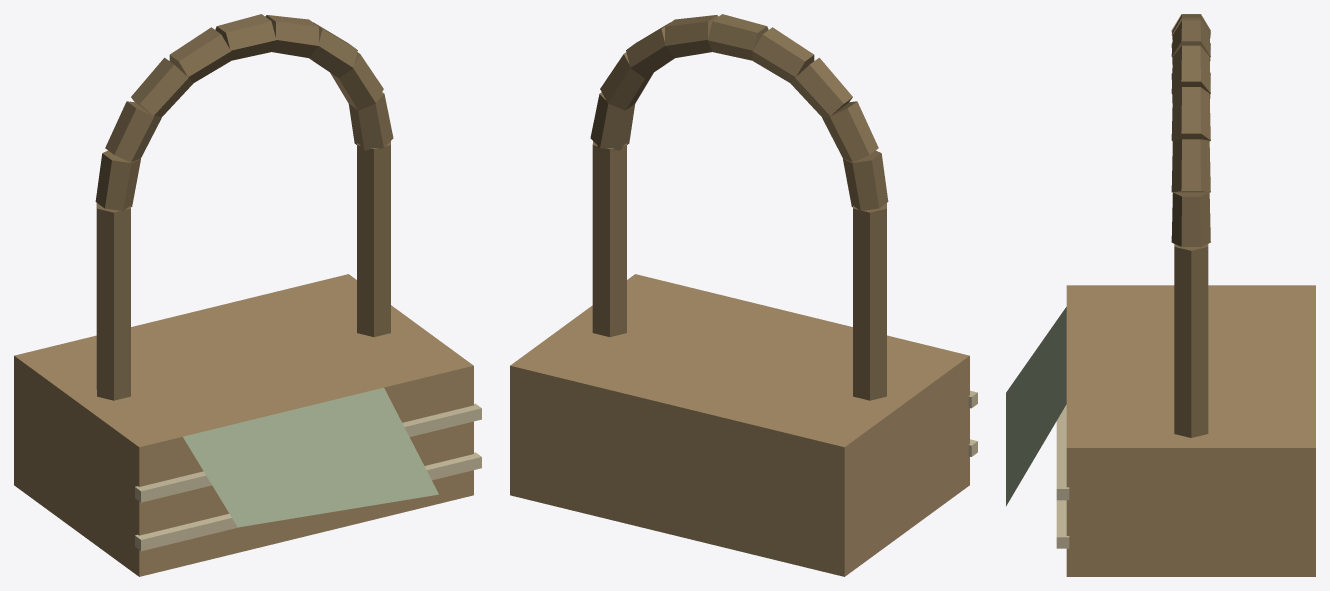
File: map-exclusive-v3__meadow_10.glb
The picture shows the model from 3 angles, left to right: view 1: azimuth 30°, elevation 25°; view 2: azimuth 150°, elevation 25°; view 3: azimuth 270°, elevation 25°; orthographic projection.
Parts seen in each view (by area): view 1: meadow_10; view 2: meadow_10; view 3: meadow_10.
Boxes of the visible parts, x1,y1,x2,y2 form: meadow_10: (14, 14, 481, 576); meadow_10: (510, 14, 977, 576); meadow_10: (1006, 14, 1315, 576).
Size of the model in its own units: 1.1 by 1.44 by 0.87.
